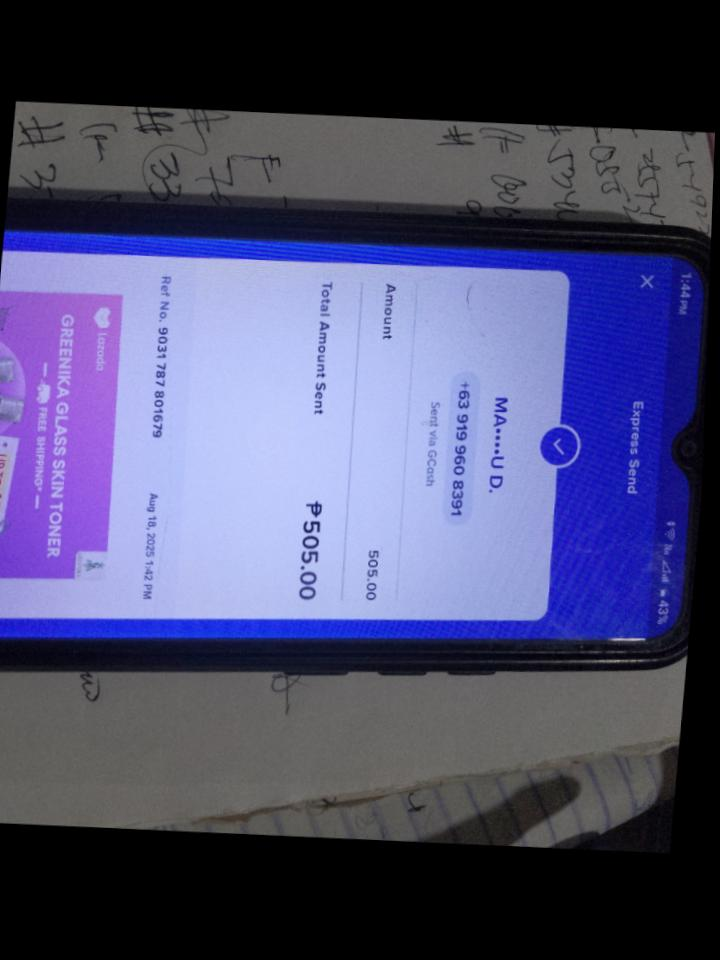Receipt: (0, 233, 667, 638)
